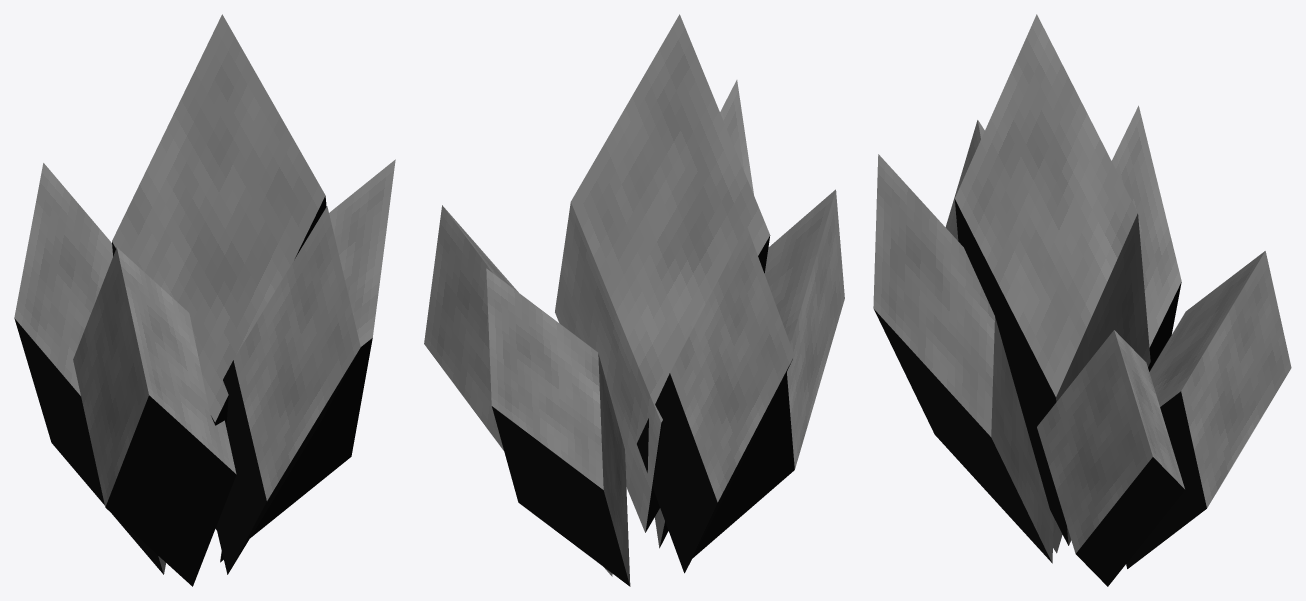
The model's file is water_crystal_cluster.obj.
The picture shows the model from 3 angles, left to right: view 1: azimuth 30°, elevation 25°; view 2: azimuth 150°, elevation 25°; view 3: azimuth 270°, elevation 25°; orthographic projection. The views are drawn at different scales.
Parts seen in each view (by area): view 1: part0, part4, part5, part3, part1; view 2: part0, part2, part3, part4, part1, part5; view 3: part0, part5, part2, part1, part3, part4.
Boxes of the visible parts, x1=… form: part0: x1=112, y1=14, x2=326, y2=530; part4: x1=73, y1=247, x2=236, y2=586; part5: x1=216, y1=206, x2=360, y2=574; part3: x1=14, y1=163, x2=165, y2=574; part1: x1=220, y1=159, x2=395, y2=562; part0: x1=555, y1=14, x2=770, y2=532; part2: x1=486, y1=268, x2=630, y2=586; part3: x1=637, y1=226, x2=794, y2=573; part4: x1=692, y1=189, x2=844, y2=558; part1: x1=424, y1=205, x2=626, y2=576; part5: x1=654, y1=80, x2=753, y2=548; part0: x1=954, y1=14, x2=1150, y2=545; part5: x1=873, y1=154, x2=1053, y2=563; part2: x1=1126, y1=251, x2=1291, y2=568; part1: x1=1037, y1=330, x2=1185, y2=586; part3: x1=1112, y1=105, x2=1181, y2=371; part4: x1=945, y1=120, x2=1062, y2=553.
Size of the model in its own units: 0.6885 by 1.01 by 0.6897.
